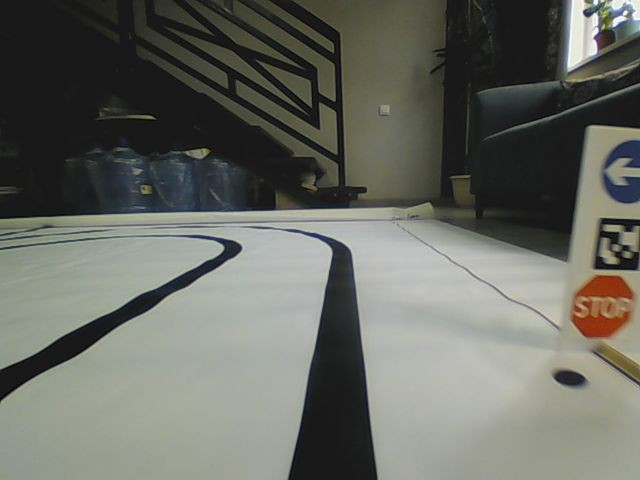Stop: (570, 275, 635, 340)
